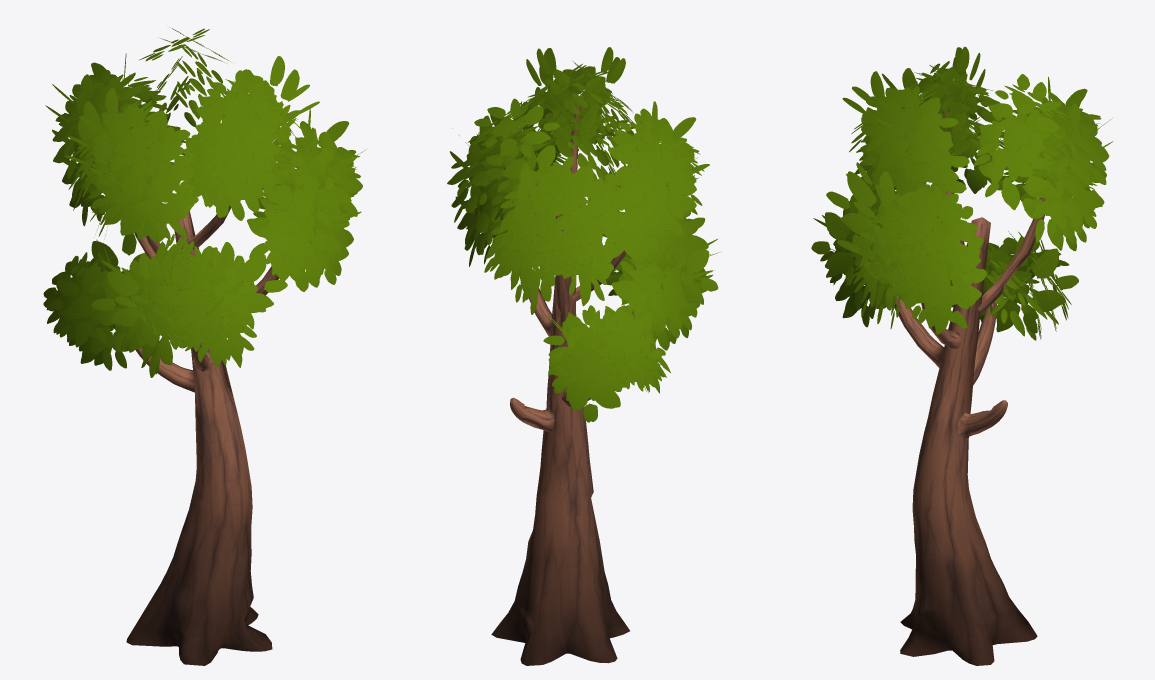
The model's file is CommonTree_5_lod.gltf.
3 renders of one model, left to right at view 1: azimuth 30°, elevation 25°; view 2: azimuth 150°, elevation 25°; view 3: azimuth 270°, elevation 25°, orthographic. The views are drawn at different scales.
Parts seen in each view (by area): view 1: CommonTree_5; view 2: CommonTree_5; view 3: CommonTree_5.
Part boxes in pixels (bbox=[...]): CommonTree_5: bbox=[43, 27, 366, 665]; CommonTree_5: bbox=[447, 47, 721, 665]; CommonTree_5: bbox=[811, 46, 1113, 665].
Bounding box in the file's own units: 3.59 × 6.45 × 3.53.
2 materials, 2 textured.
